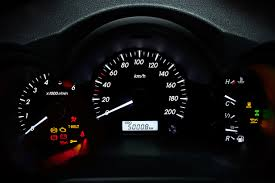Digital_Meter: (121, 121, 161, 133)
